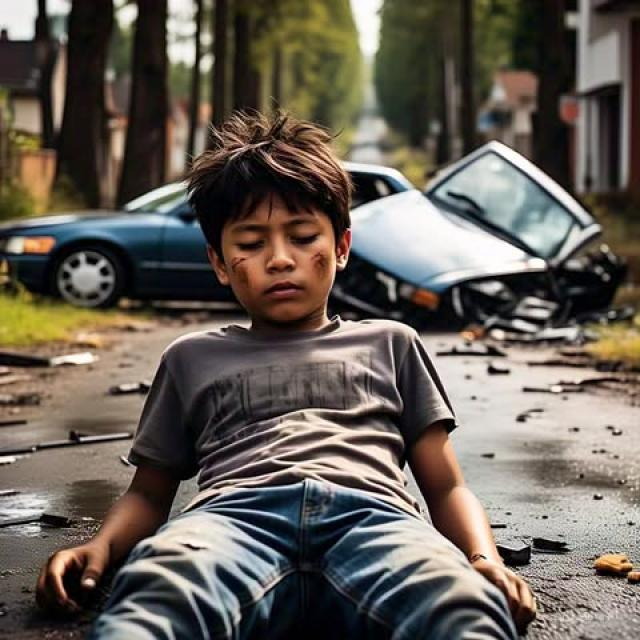injury: (187, 113, 351, 331), (305, 245, 336, 292), (225, 247, 252, 298), (459, 543, 483, 560)
